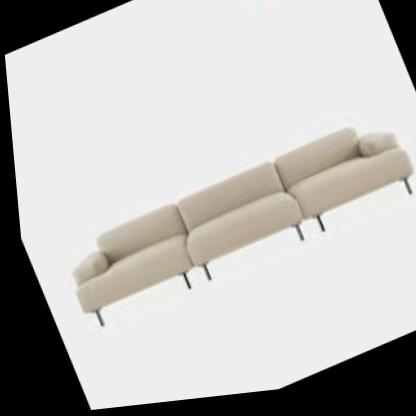Sofa: (19, 84, 416, 378)
